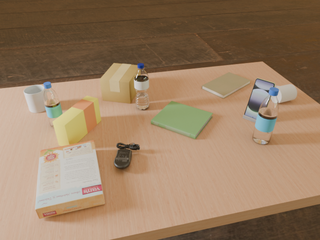book: (151, 101, 213, 139), (202, 72, 250, 98)
bottle: (253, 87, 279, 144), (43, 82, 62, 128), (134, 63, 149, 110)
box: (35, 140, 105, 219), (52, 96, 101, 146), (100, 63, 138, 103)
cup: (24, 85, 46, 113), (275, 84, 297, 103)
mouse: (114, 143, 140, 169)
phone: (244, 78, 275, 119)
